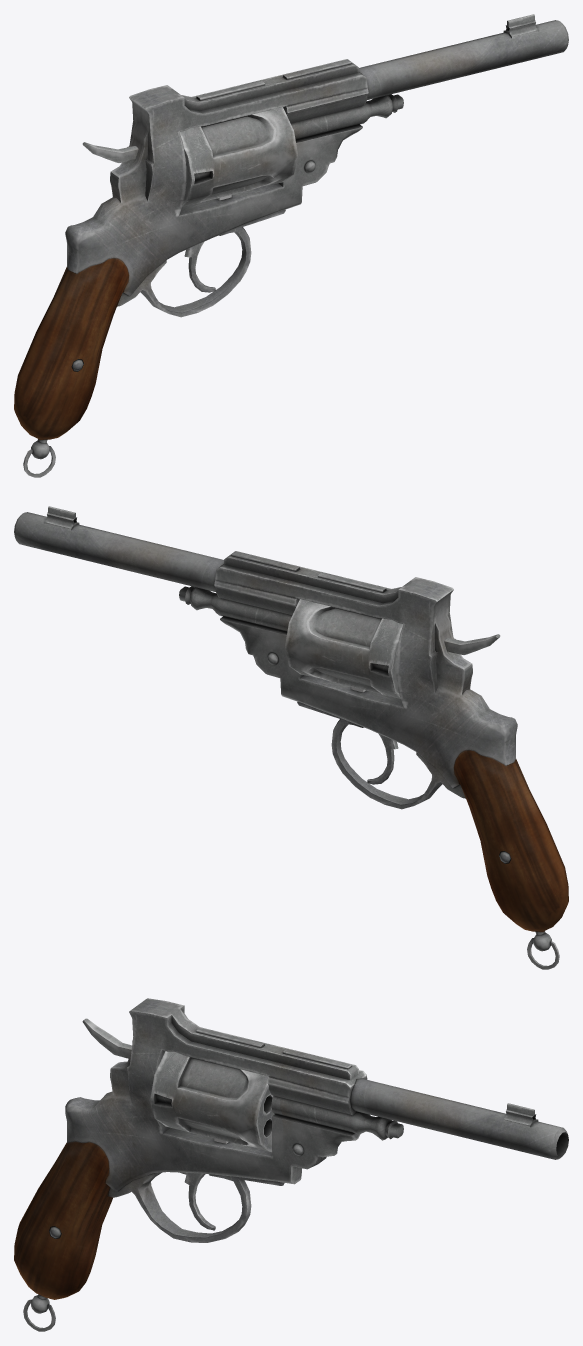
File: revolver-old.glb
3 views of the same model, one above another, from view 1: azimuth 30°, elevation 25°; view 2: azimuth 150°, elevation 25°; view 3: azimuth 330°, elevation 25° (orthographic).
Parts seen in each view (by area): view 1: Revolver; view 2: Revolver; view 3: Revolver.
Part boxes in pixels (bbox=[...]): Revolver: bbox=[14, 14, 568, 477]; Revolver: bbox=[14, 506, 568, 969]; Revolver: bbox=[14, 998, 568, 1331].
Bounding box in the file's own units: 478 × 294 × 63.41.
1 material, 1 textured.
